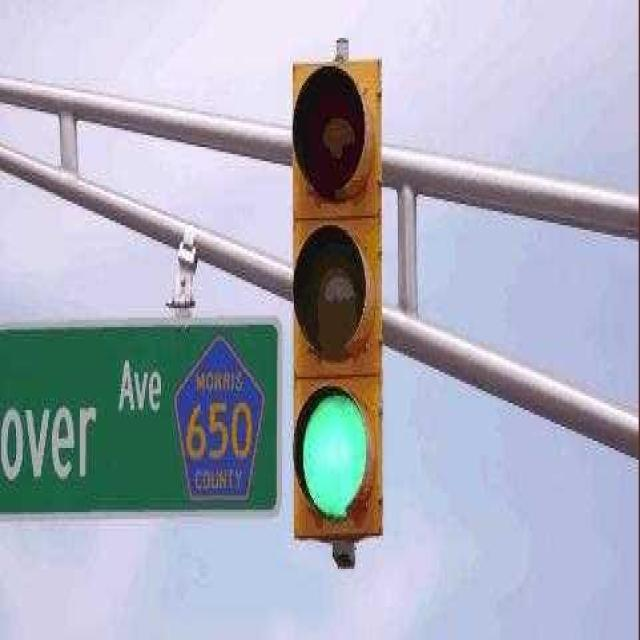Traffic Light -Green-: (286, 50, 387, 541)
